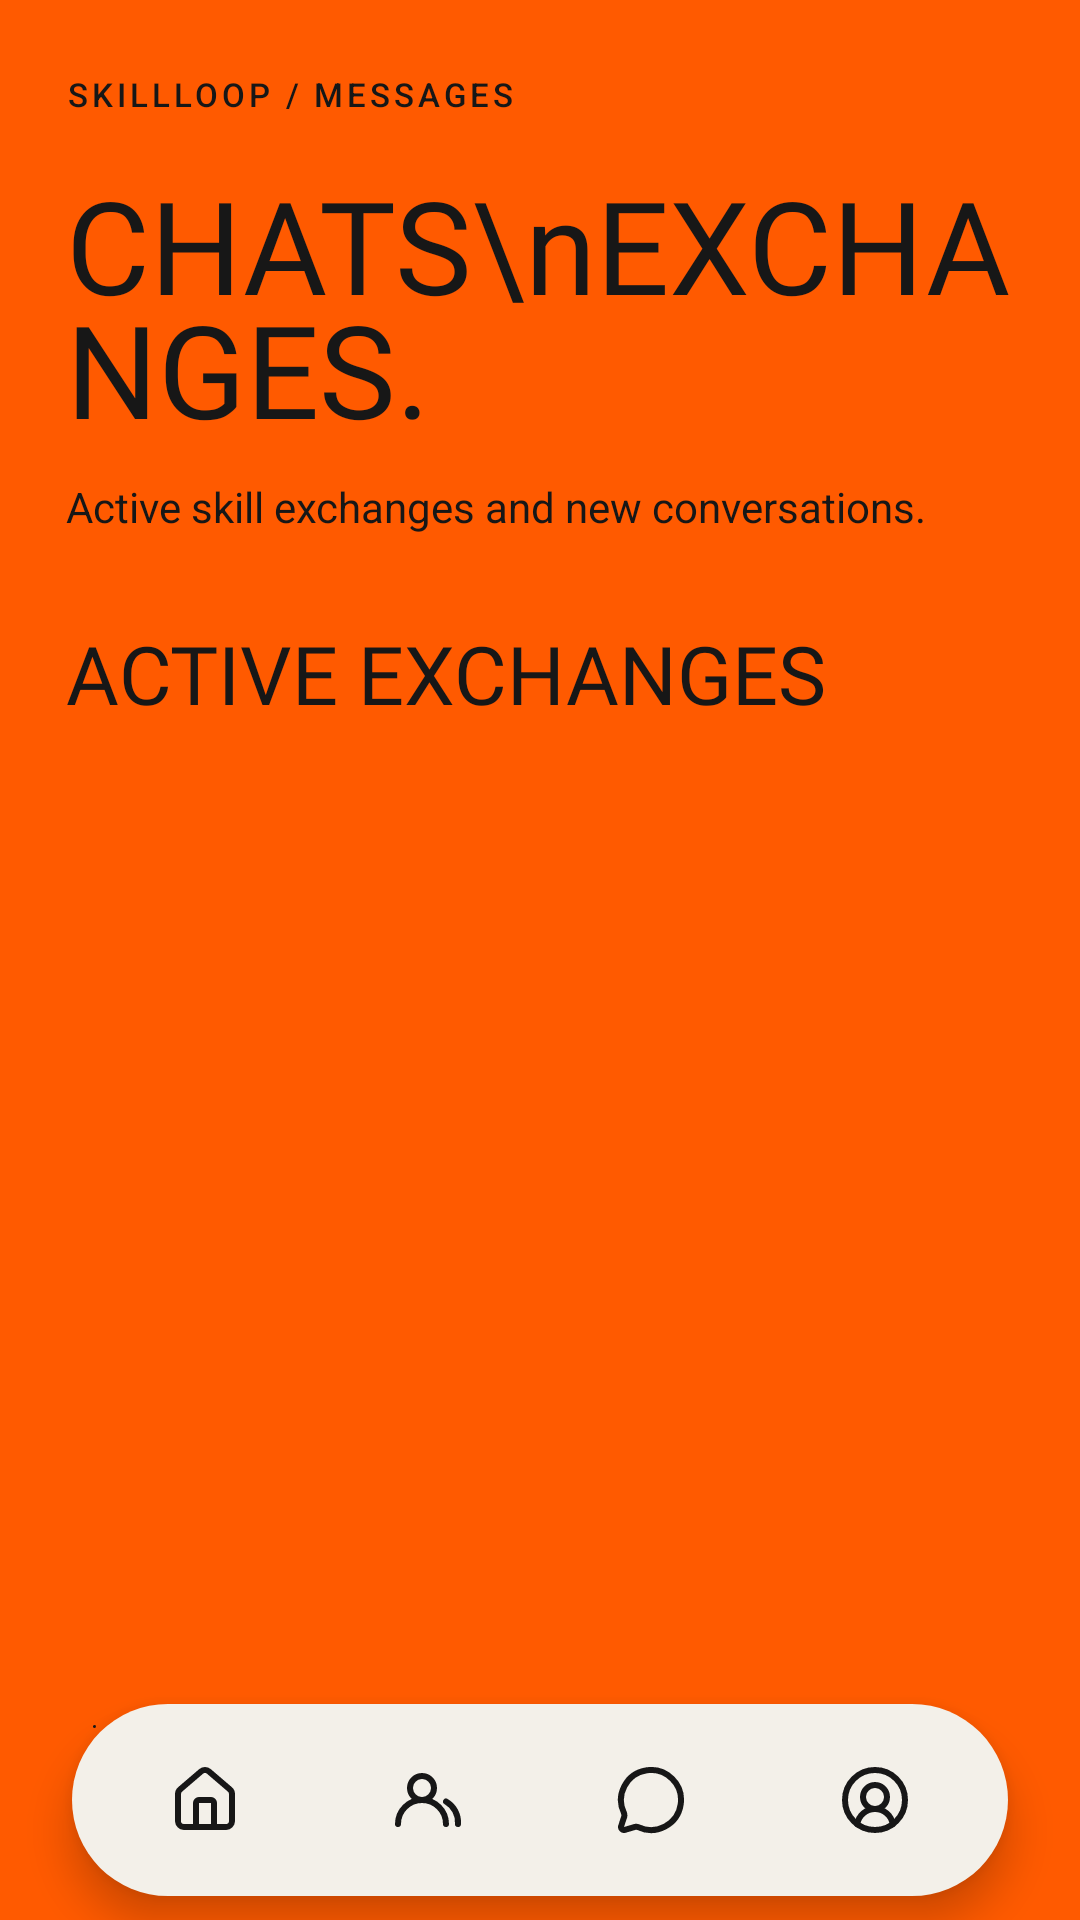

Screen size 1080w x 1920h. Icon name, then its center in pixels as [x,y]:
Chats: [650,1800]
Connect: [428,1800]
Your profile: [875,1800]
